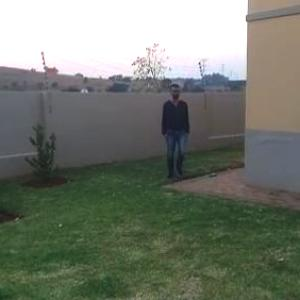follow: (156, 81, 192, 189)
